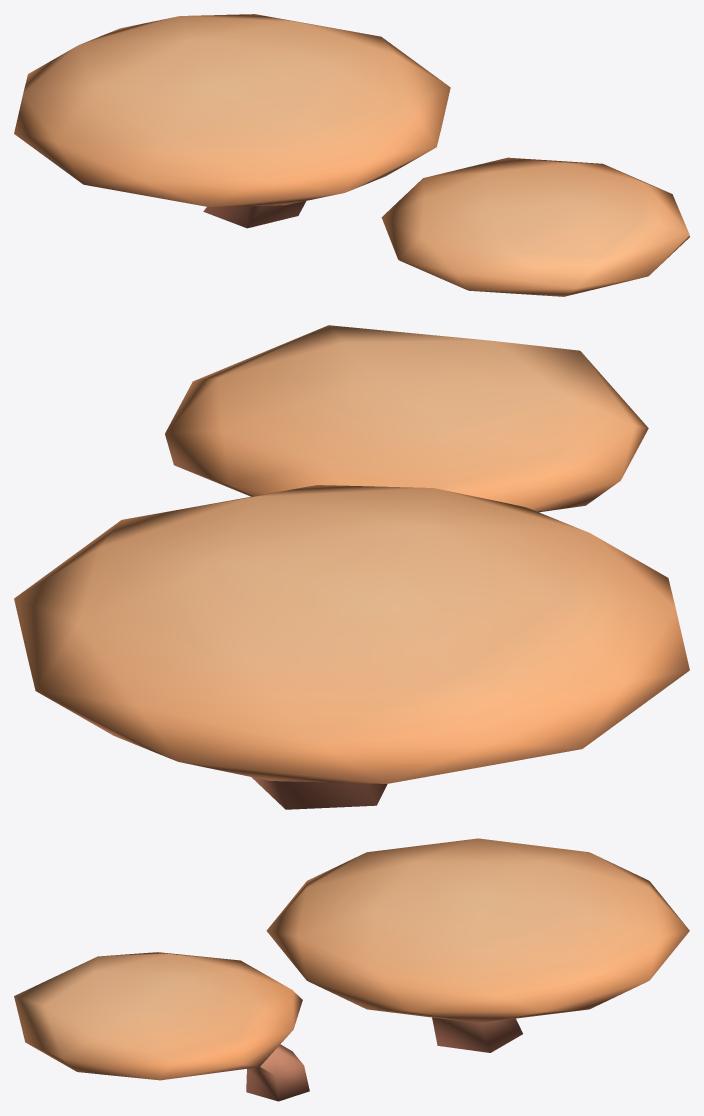
Rendered from mushroom_sphere_2.glb.
The picture shows the model from 3 angles, top to bottom: view 1: azimuth 30°, elevation 25°; view 2: azimuth 150°, elevation 25°; view 3: azimuth 270°, elevation 25°; orthographic projection. The views are drawn at different scales.
Visible parts, largest first — view 1: mushroom_sphere_2; view 2: mushroom_sphere_2; view 3: mushroom_sphere_2.
Part boxes in pixels (<box>): mushroom_sphere_2: <box>14,14,689,296</box>; mushroom_sphere_2: <box>14,325,689,809</box>; mushroom_sphere_2: <box>14,838,689,1101</box>.
Size of the model in its own units: 10.44 by 2.84 by 14.25.
1 material, 1 textured.
